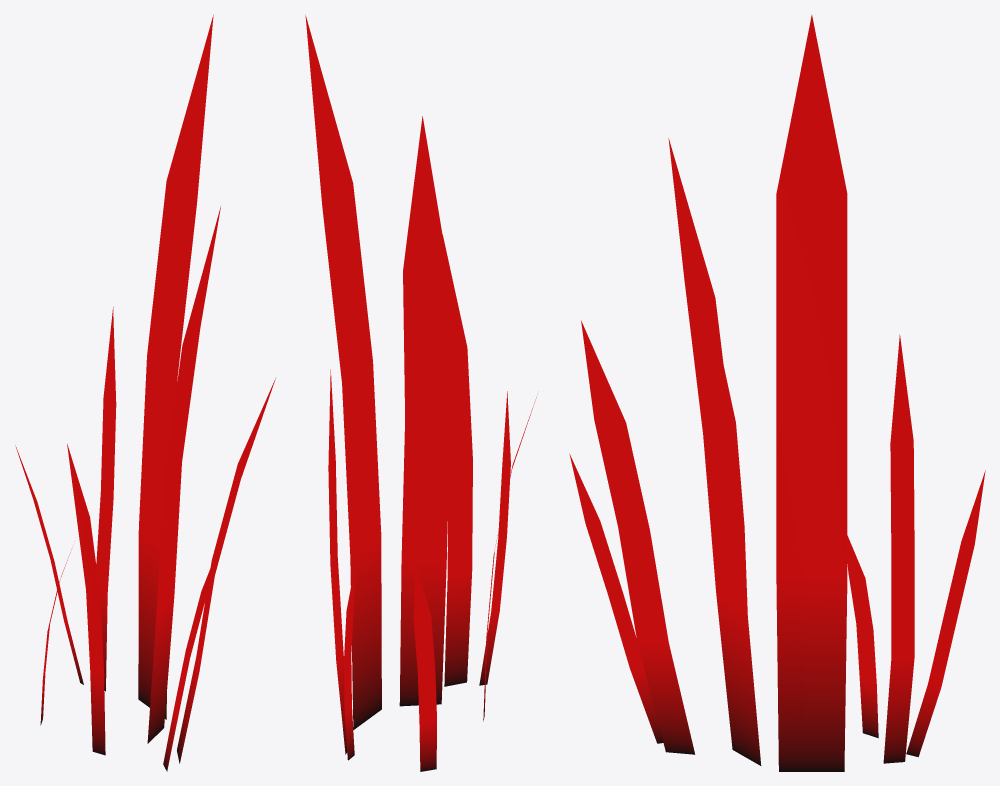
Rendered from Grassv2_TFM.fbx.
The picture shows the model from 3 angles, left to right: view 1: azimuth 30°, elevation 25°; view 2: azimuth 150°, elevation 25°; view 3: azimuth 270°, elevation 25°; orthographic projection. The views are drawn at different scales.
Parts seen in each view (by area): view 1: GrassBlade; view 2: GrassBlade; view 3: GrassBlade.
Boxes of the visible parts, x1,y1,x2,y2 form: GrassBlade: [15, 14, 275, 771]; GrassBlade: [305, 15, 536, 771]; GrassBlade: [569, 14, 985, 771].
Size of the model in its own units: 0.2353 by 0.8217 by 0.3852.
